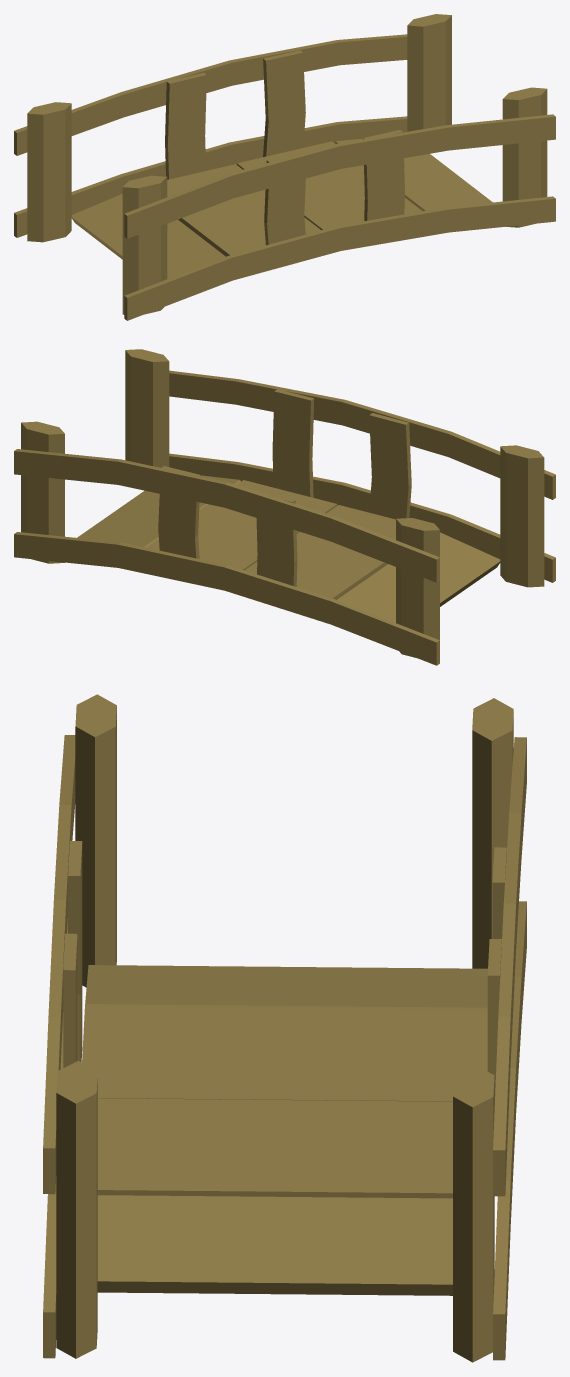
File: Bridge.glb
3 renders of one model, top to bottom at view 1: azimuth 30°, elevation 25°; view 2: azimuth 150°, elevation 25°; view 3: azimuth 270°, elevation 25°, orthographic. The views are drawn at different scales.
Parts seen in each view (by area): view 1: Bridge.001; view 2: Bridge.001; view 3: Bridge.001.
Part boxes in pixels (left/top/right/bottom): Bridge.001: left=14, top=14, right=555, bottom=320; Bridge.001: left=14, top=349, right=555, bottom=665; Bridge.001: left=43, top=694, right=526, bottom=1362.
Size of the model in its own units: 0.6399 by 0.1828 by 0.3142.
